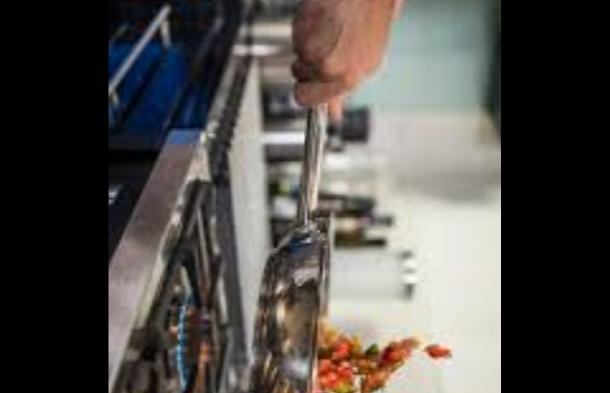controlled_fire: (160, 273, 224, 393)
